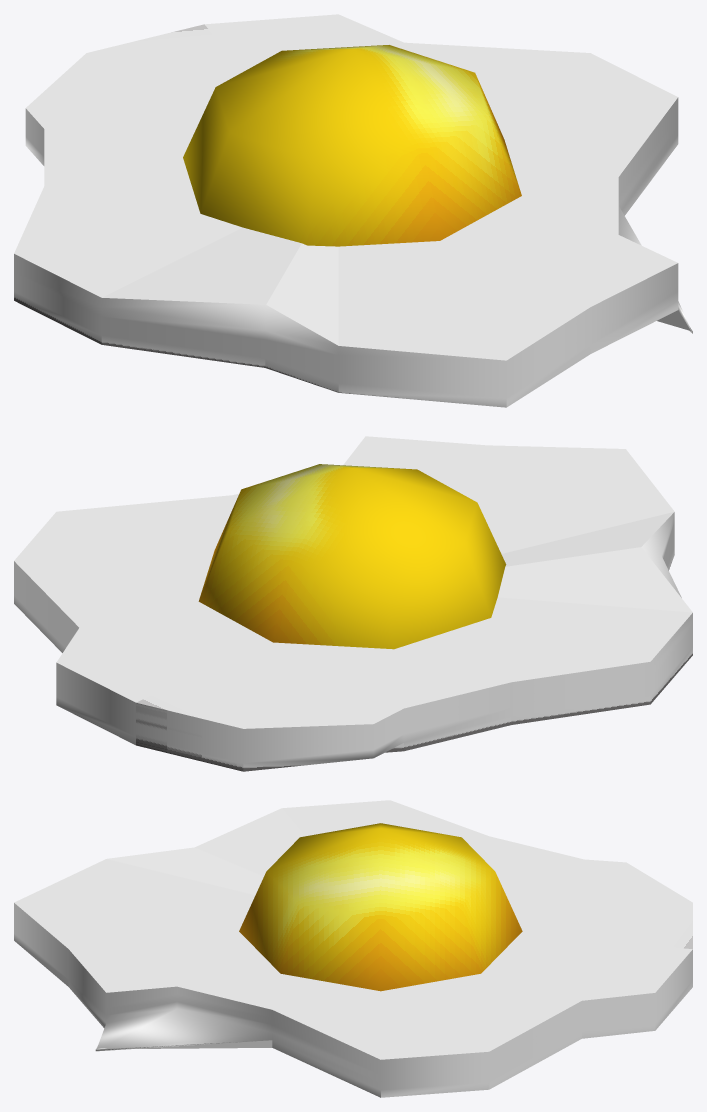
The model's file is brokenEggT.FBX.
3 views of the same model, one above another, from view 1: azimuth 30°, elevation 25°; view 2: azimuth 150°, elevation 25°; view 3: azimuth 270°, elevation 25° (orthographic). The views are drawn at different scales.
Visible parts, largest first — view 1: Cylinder01, Sphere01; view 2: Cylinder01, Sphere01; view 3: Cylinder01, Sphere01.
Part boxes in pixels (left/top/right/bottom): Cylinder01: left=14, top=14, right=692, bottom=407; Sphere01: left=183, top=45, right=521, bottom=246; Cylinder01: left=14, top=436, right=692, bottom=771; Sphere01: left=198, top=464, right=506, bottom=649; Cylinder01: left=14, top=800, right=692, bottom=1097; Sphere01: left=239, top=823, right=522, bottom=991.
Bounding box in the file's own units: 18.93 × 5.64 × 20.92.
2 materials, 2 textured.
